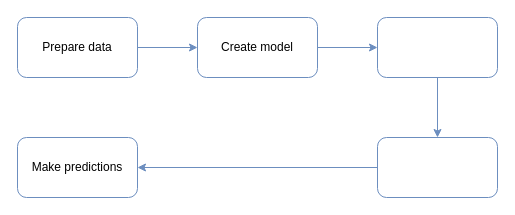
Some shapes in this 515 by 215 pixel diagram are drawn without their labels. Here are the shapes that lost their labels. From the top down, the centre of each, then its label:
At (x=437, y=47): "Define optimizer".
At (x=437, y=167): "Train model".
